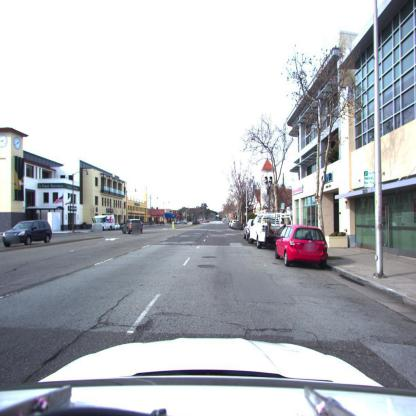car: (275, 226, 329, 268), (2, 220, 53, 247), (253, 216, 287, 248), (122, 219, 143, 234), (244, 223, 252, 241), (231, 221, 243, 230)
clock: (0, 135, 7, 147), (14, 139, 20, 150)
truck: (92, 217, 119, 231)
